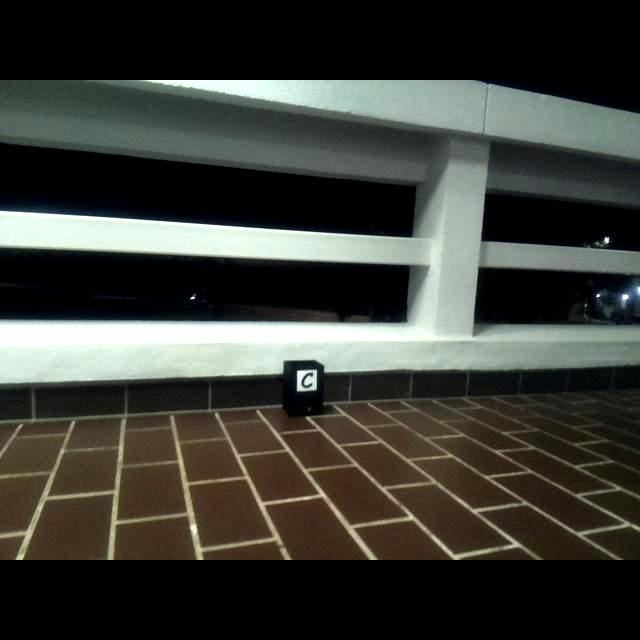C: (301, 373, 314, 389)
